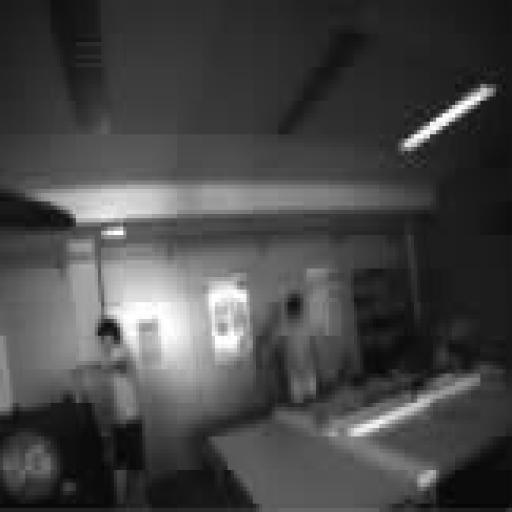human: (95, 319, 145, 507), (282, 290, 319, 402)
